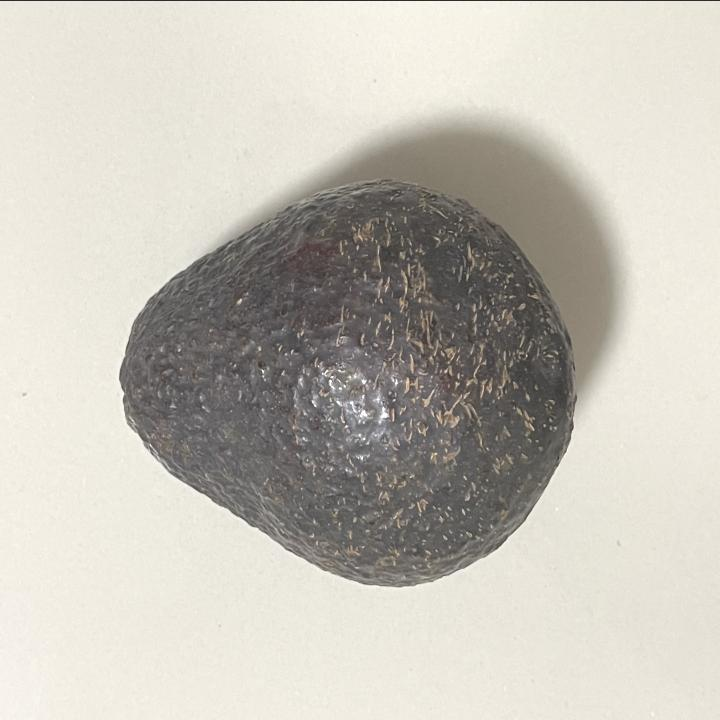Level3: (109, 169, 584, 599)
